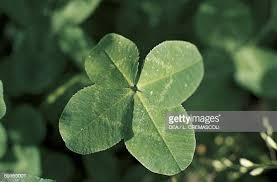4-clover: (60, 36, 201, 175)
